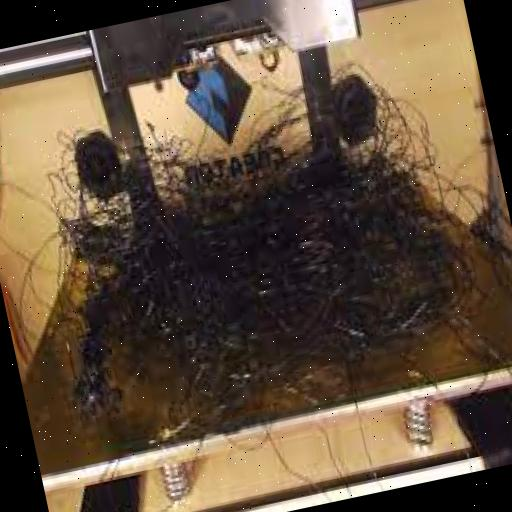spaghetti: (40, 30, 512, 492)
